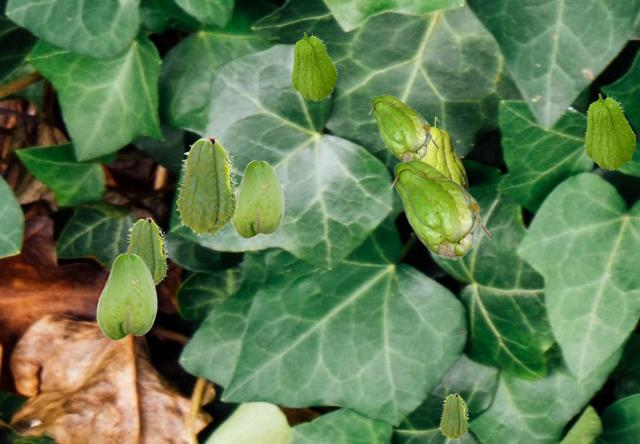sayote: (389, 159, 489, 259), (175, 136, 238, 236), (96, 253, 156, 339), (368, 94, 437, 160), (583, 92, 636, 169), (231, 160, 283, 237), (423, 116, 467, 190), (290, 31, 337, 100), (124, 217, 168, 285), (439, 393, 468, 439)
